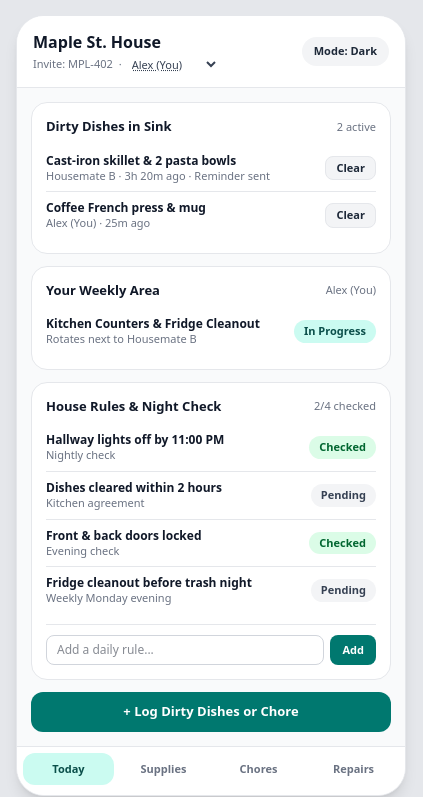
HouseFlow Tasks 4-7: dishes, garbage night, chores, and weekly rotation › shows garbage night-before reminder when tomorrow is pickup day and marks done (US-3)
Note: Set garbage pickup day to tomorrow
Click the button "Chores". click: [258, 769]
box: [213,753,304,785]
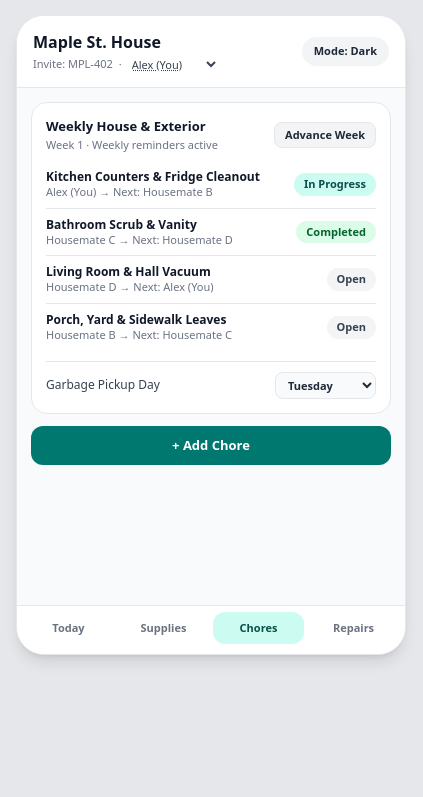
Select "Wednesday" in the dropdown labelled "Garbage Pickup Day". click: [326, 385]
box: [275,372,376,399]
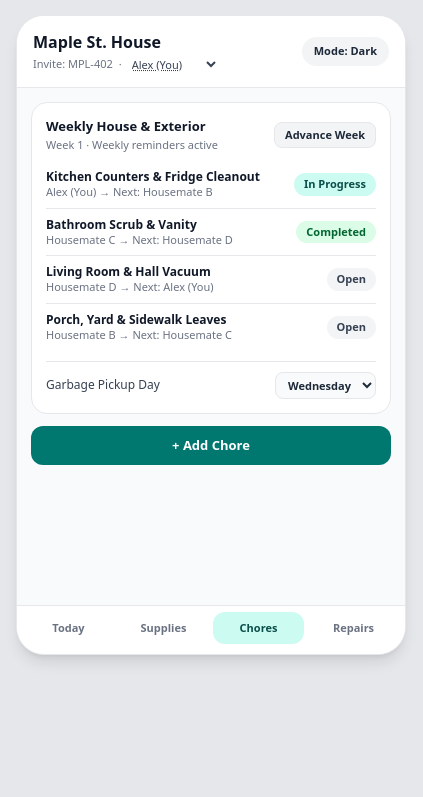
Click the button "Today". click: [68, 628]
box: [23,612,114,644]
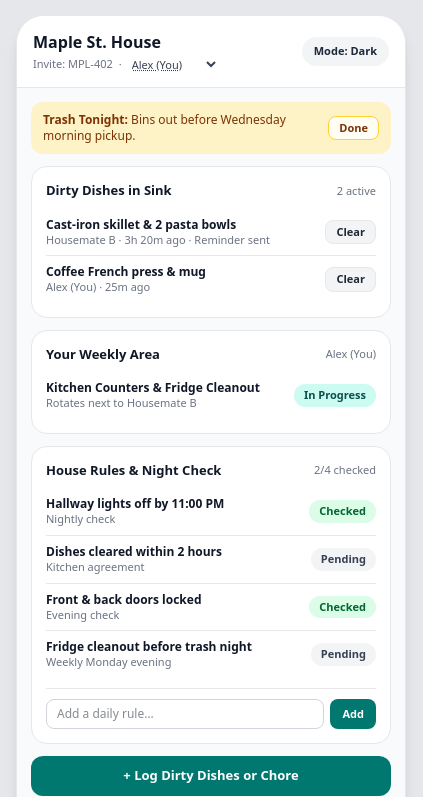
Expected: the text "Trash Tonight:" is shown, [43,111,128,128]
Click the button "Done". click: [354, 128]
box: [328,116,379,140]
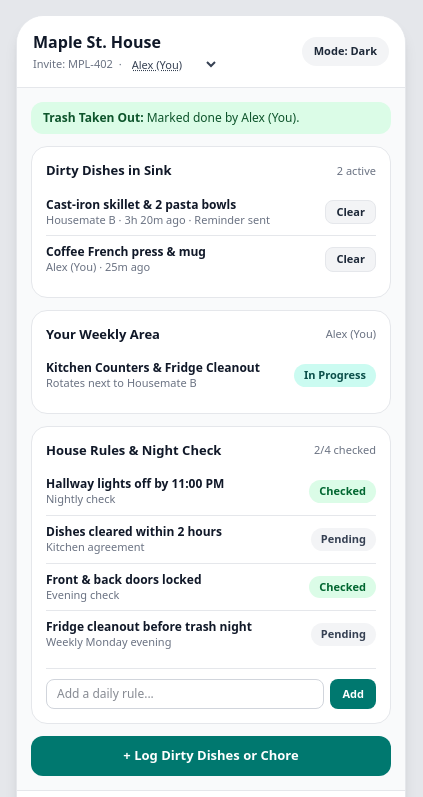
Expected: the text "Trash Taken Out:" is shown, [43,109,144,126]
